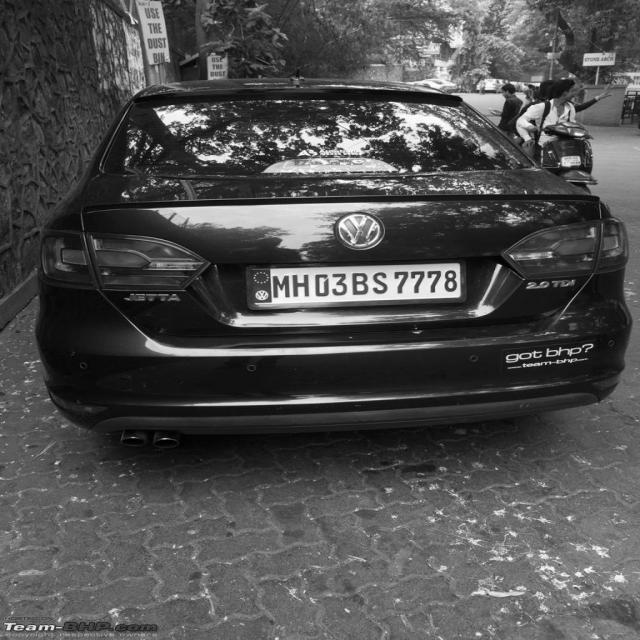bike: (519, 122, 615, 187)
car: (21, 81, 633, 441)
license-plate: (250, 256, 471, 312), (556, 156, 586, 168)
